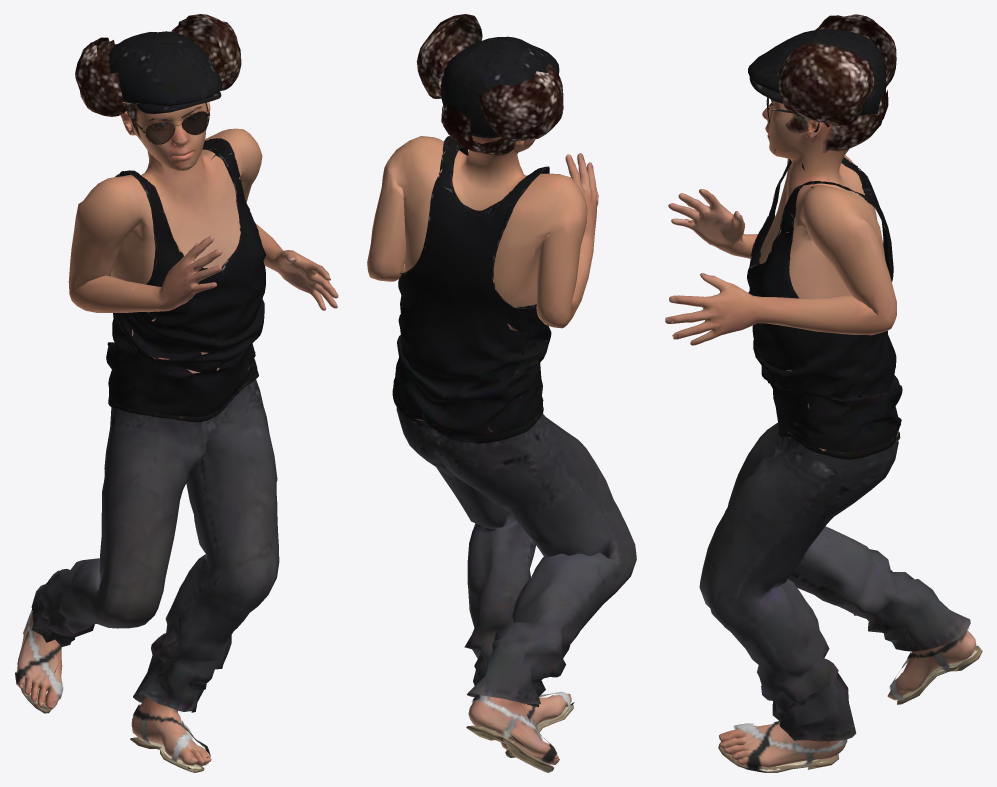
3 renders of one model, left to right at view 1: azimuth 30°, elevation 25°; view 2: azimuth 150°, elevation 25°; view 3: azimuth 270°, elevation 25°, orthographic. The views are drawn at different scales.
Visible parts, largest first — view 1: p04277; view 2: p04277; view 3: p04277.
Boxes of the visible parts, box(x1,y1,x2,y2) form: p04277: box(15, 14, 338, 772); p04277: box(367, 14, 636, 772); p04277: box(665, 14, 982, 772).
Bounding box in the file's own units: 0.5155 × 1.72 × 0.6611.
Materials: 1 (1 with a texture image).
